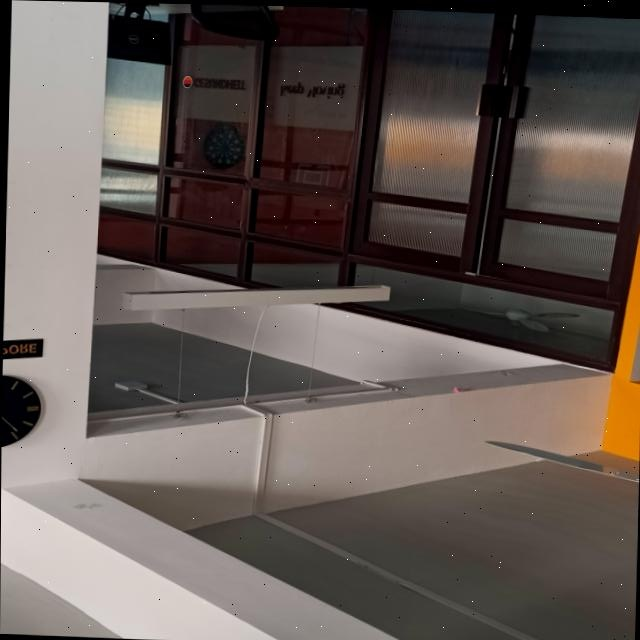fluorescent tube: (112, 270, 392, 324)
